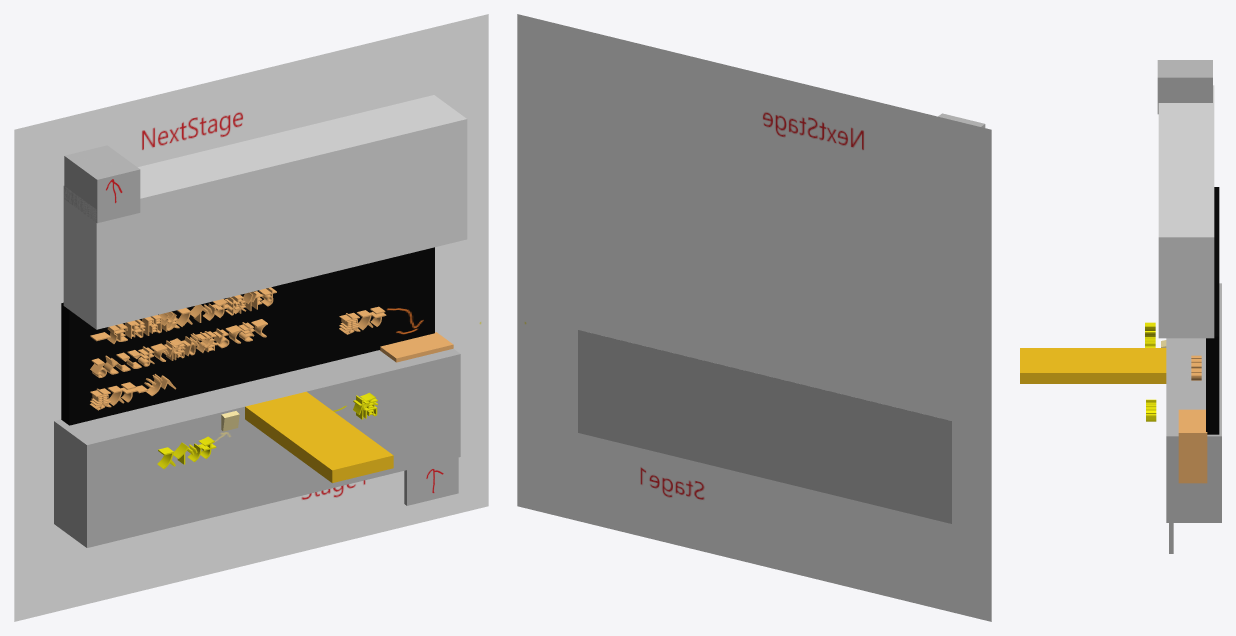
File: 名大祭ダンジョン案Stage1.glb
3 renders of one model, left to right at view 1: azimuth 30°, elevation 25°; view 2: azimuth 150°, elevation 25°; view 3: azimuth 270°, elevation 25°, orthographic. The views are drawn at different scales.
Visible parts, largest first — view 1: mesh_id1, mesh_id27, mesh_id29, mesh_id37, mesh_id31, mesh_id41, mesh_id67, mesh_id66, mesh_id43, mesh_id73, mesh_id68, mesh_id56 (+1 smaller); view 2: mesh_id1, mesh_id29; view 3: mesh_id27, mesh_id29, mesh_id31, mesh_id41, mesh_id37, mesh_id73.
Part boxes in pixels (x1=…): mesh_id1: x1=14, y1=14, x2=488, y2=621; mesh_id27: x1=63, y1=95, x2=467, y2=329; mesh_id29: x1=54, y1=348, x2=460, y2=547; mesh_id37: x1=61, y1=247, x2=434, y2=425; mesh_id31: x1=245, y1=391, x2=393, y2=482; mesh_id41: x1=64, y1=145, x2=140, y2=223; mesh_id67: x1=90, y1=319, x2=267, y2=377; mesh_id66: x1=90, y1=287, x2=276, y2=343; mesh_id43: x1=404, y1=457, x2=458, y2=505; mesh_id73: x1=379, y1=332, x2=453, y2=362; mesh_id68: x1=90, y1=374, x2=176, y2=410; mesh_id56: x1=157, y1=436, x2=216, y2=468; mesh_id1: x1=517, y1=14, x2=991, y2=621; mesh_id29: x1=578, y1=330, x2=951, y2=523; mesh_id27: x1=1158, y1=85, x2=1214, y2=338; mesh_id29: x1=1166, y1=283, x2=1221, y2=522; mesh_id31: x1=1020, y1=348, x2=1166, y2=383; mesh_id41: x1=1157, y1=60, x2=1212, y2=114; mesh_id37: x1=1206, y1=187, x2=1219, y2=434; mesh_id73: x1=1178, y1=409, x2=1207, y2=483.
Size of the model in its own units: 1.66 by 1.65 by 0.728.
Materials: 15 (7 with a texture image).
